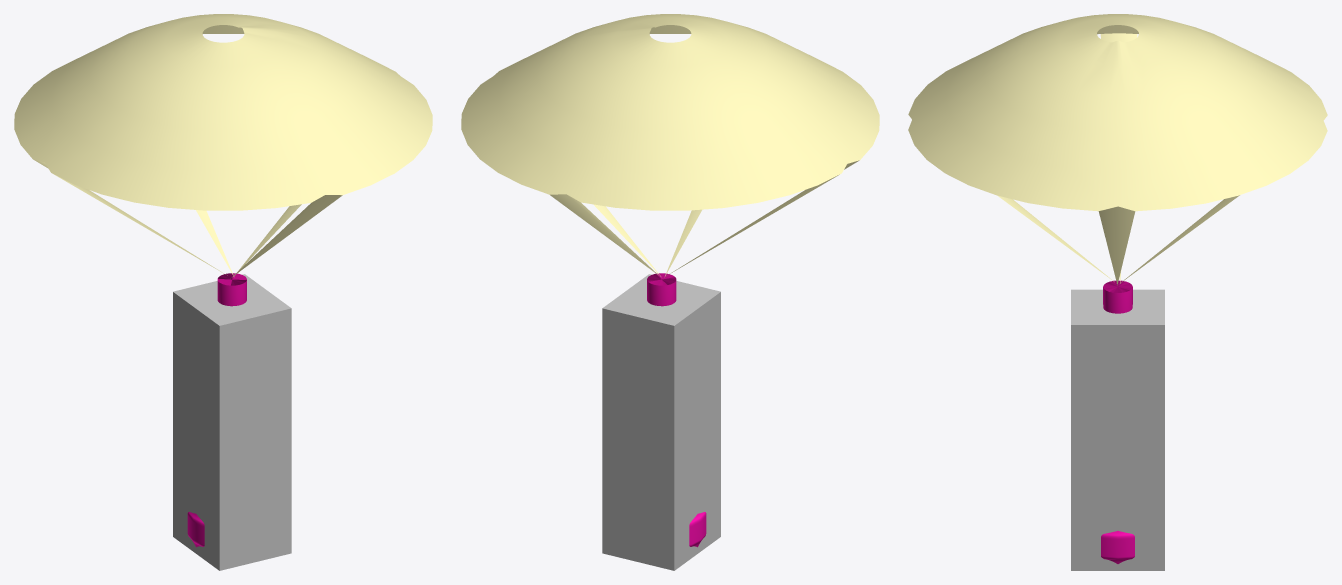
File: PARASHUT.dae
The picture shows the model from 3 angles, left to right: view 1: azimuth 30°, elevation 25°; view 2: azimuth 150°, elevation 25°; view 3: azimuth 270°, elevation 25°; orthographic projection.
Visible parts, largest first — view 1: parashute, Cube, bottle; view 2: parashute, Cube, bottle; view 3: parashute, Cube, bottle.
Boxes of the visible parts, bbox=[...] form: parashute: bbox=[14, 14, 432, 278]; Cube: bbox=[173, 274, 291, 570]; bottle: bbox=[187, 273, 246, 547]; parashute: bbox=[461, 14, 879, 277]; Cube: bbox=[602, 274, 720, 570]; bottle: bbox=[647, 273, 706, 547]; parashute: bbox=[908, 14, 1327, 285]; Cube: bbox=[1071, 289, 1164, 570]; bottle: bbox=[1101, 280, 1134, 563].
Size of the model in its own units: 399 by 546 by 399.
